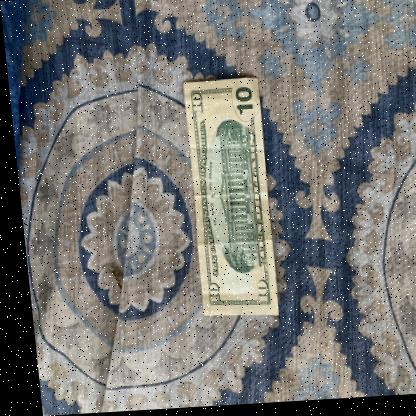ten-back: (177, 79, 275, 319)
